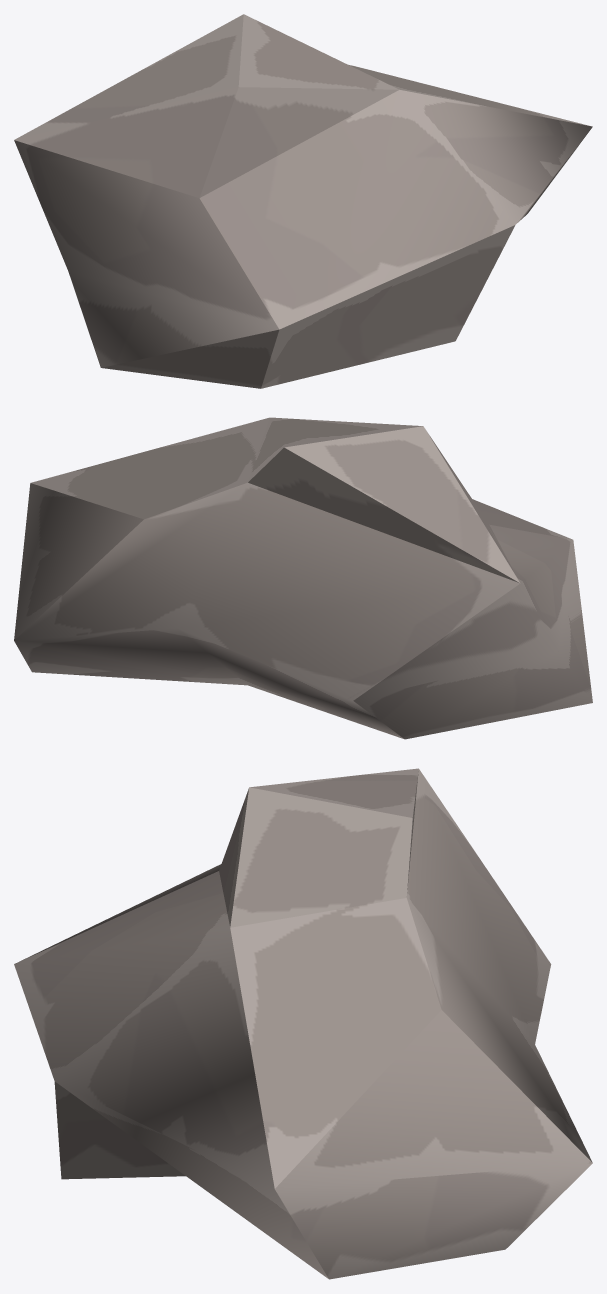
File: Rock2.fbx
The picture shows the model from 3 angles, top to bottom: view 1: azimuth 30°, elevation 25°; view 2: azimuth 150°, elevation 25°; view 3: azimuth 270°, elevation 25°; orthographic projection. The views are drawn at different scales.
Visible parts, largest first — view 1: Rock2; view 2: Rock2; view 3: Rock2.
Part boxes in pixels (box(x1,y1,x2,y2)): Rock2: box(14, 14, 592, 388); Rock2: box(14, 417, 592, 739); Rock2: box(14, 768, 592, 1279).
Bounding box in the file's own units: 411 × 184 × 307.
